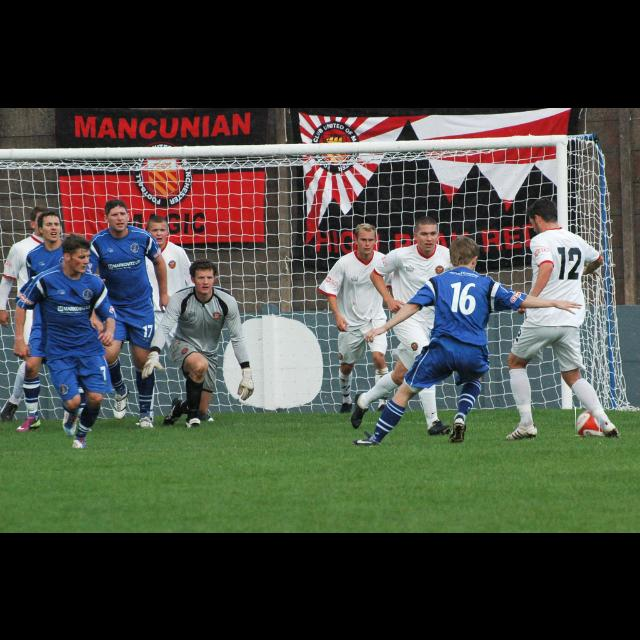Football: (576, 406, 600, 436)
